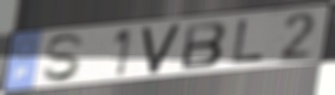1: (111, 27, 134, 78)
2: (279, 11, 318, 63)
B: (179, 20, 229, 71)
L: (230, 18, 267, 66)
S: (40, 32, 88, 83)
V: (140, 21, 183, 76)
